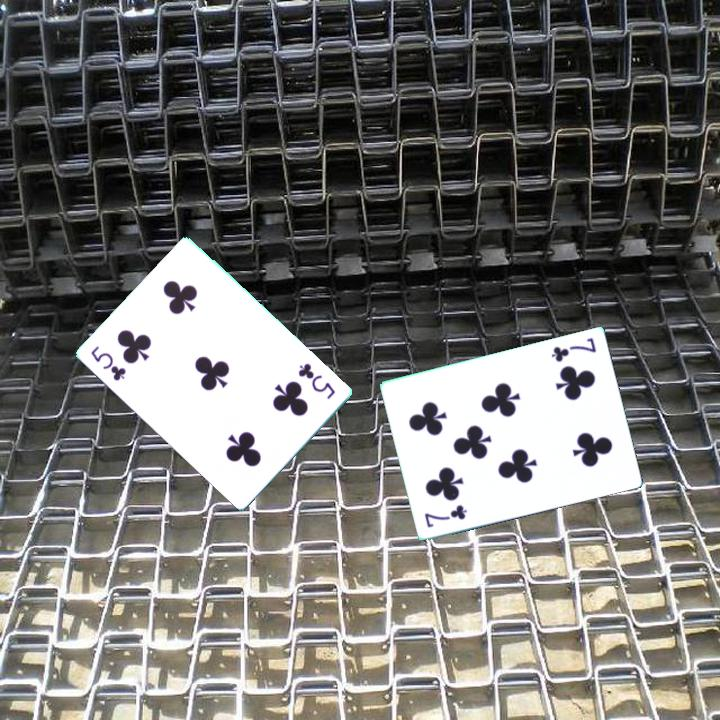5c: (295, 359, 339, 402), (88, 342, 130, 384)
7c: (548, 334, 599, 365), (421, 501, 470, 530)
